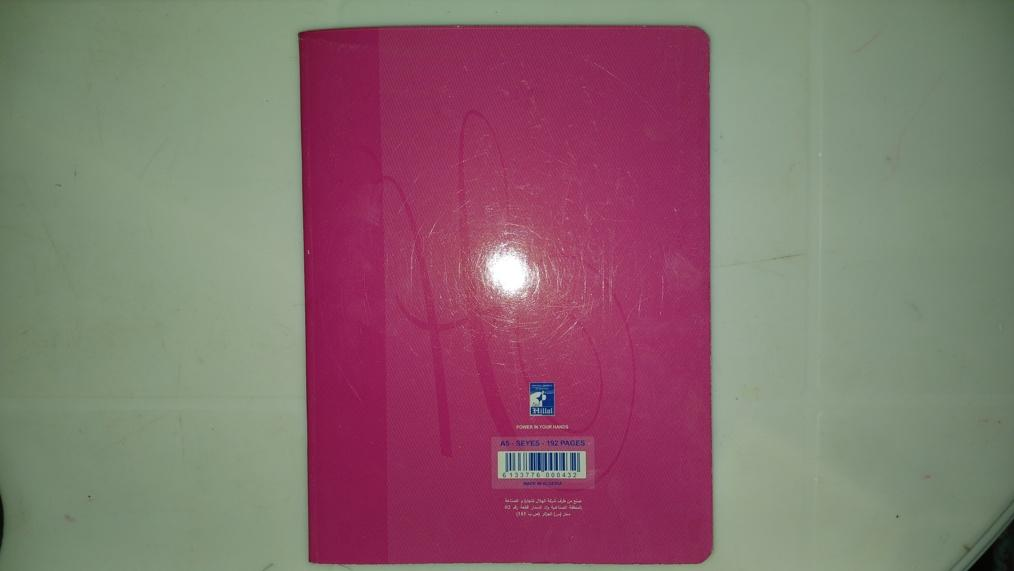notebook: (307, 26, 710, 566)
